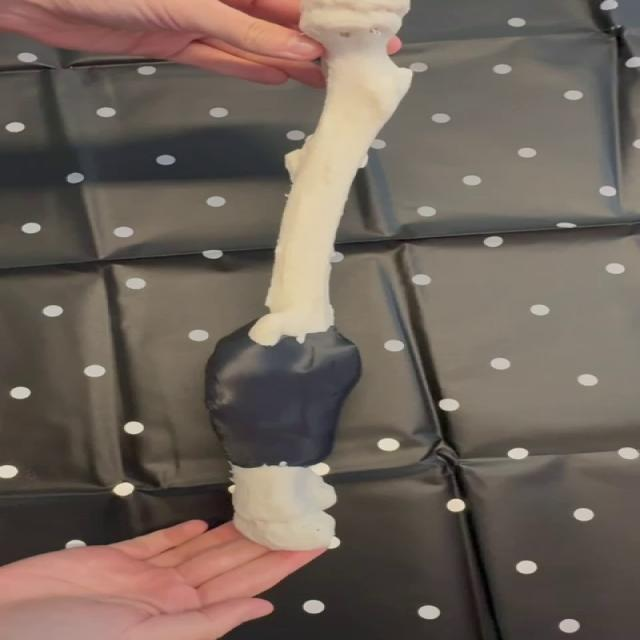bones: (206, 0, 413, 550)
